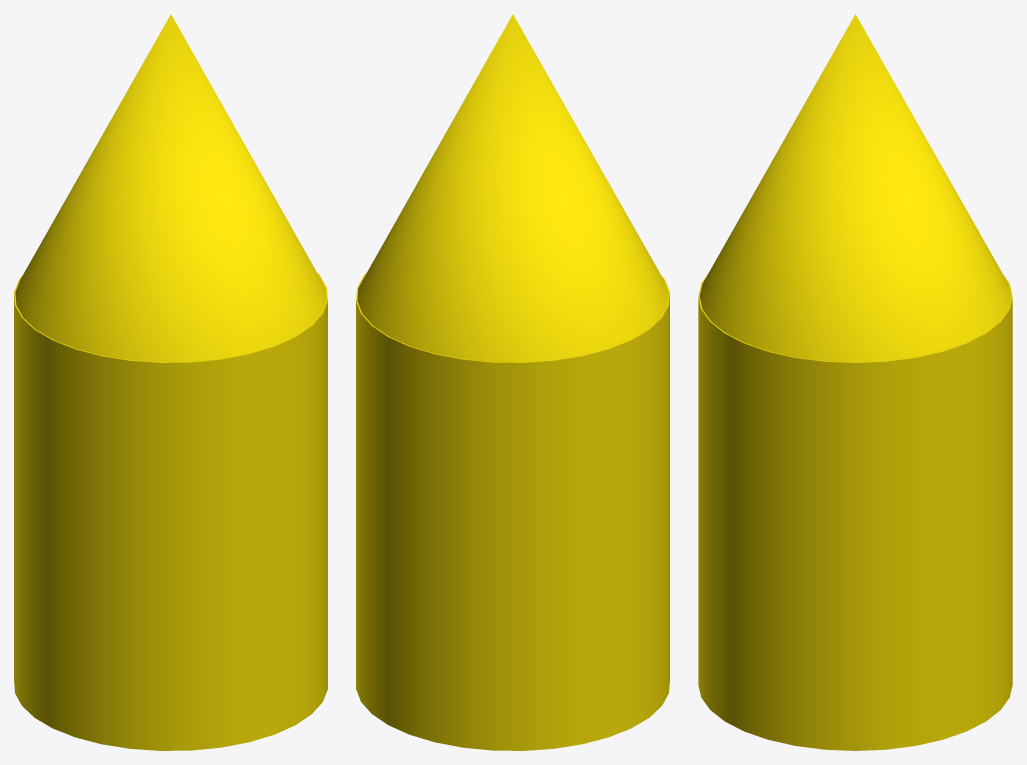
Rendered from Bullet.fbx.
The picture shows the model from 3 angles, left to right: view 1: azimuth 30°, elevation 25°; view 2: azimuth 150°, elevation 25°; view 3: azimuth 270°, elevation 25°; orthographic projection.
Parts seen in each view (by area): view 1: Cylinder; view 2: Cylinder; view 3: Cylinder.
Part boxes in pixels (left/top/right/bottom): Cylinder: left=14, top=14, right=327, bottom=750; Cylinder: left=356, top=14, right=669, bottom=750; Cylinder: left=698, top=14, right=1012, bottom=750.
Bounding box in the file's own units: 200 × 470 × 200.
